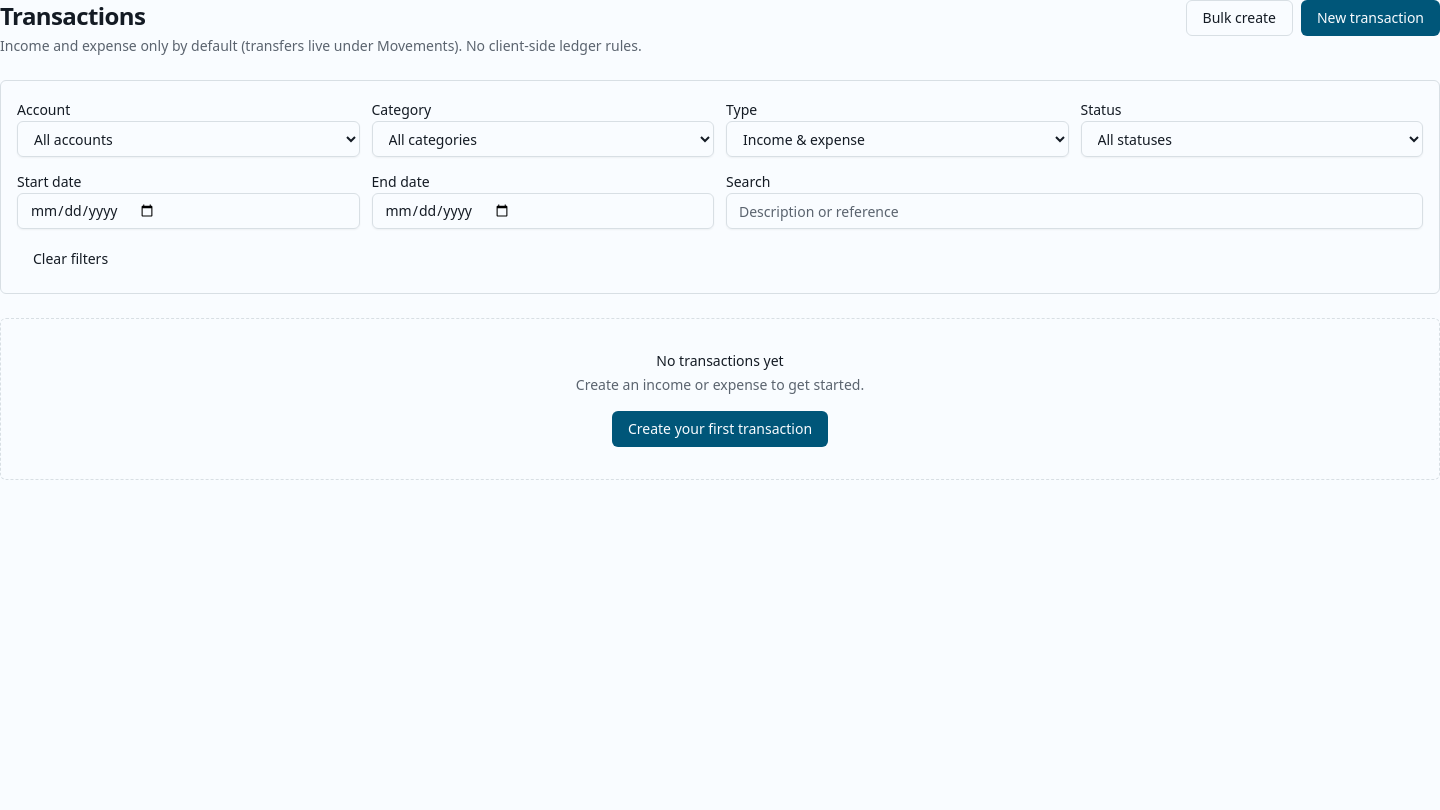
Test: TransactionsPage › creates a transaction through the dialog
The width and height of the screenshot is (1440, 810).
Check: the text "No transactions yet" is shown, box [656,351,784,370]
Click the button "New transaction": (1370, 18) [1301,0,1439,36]
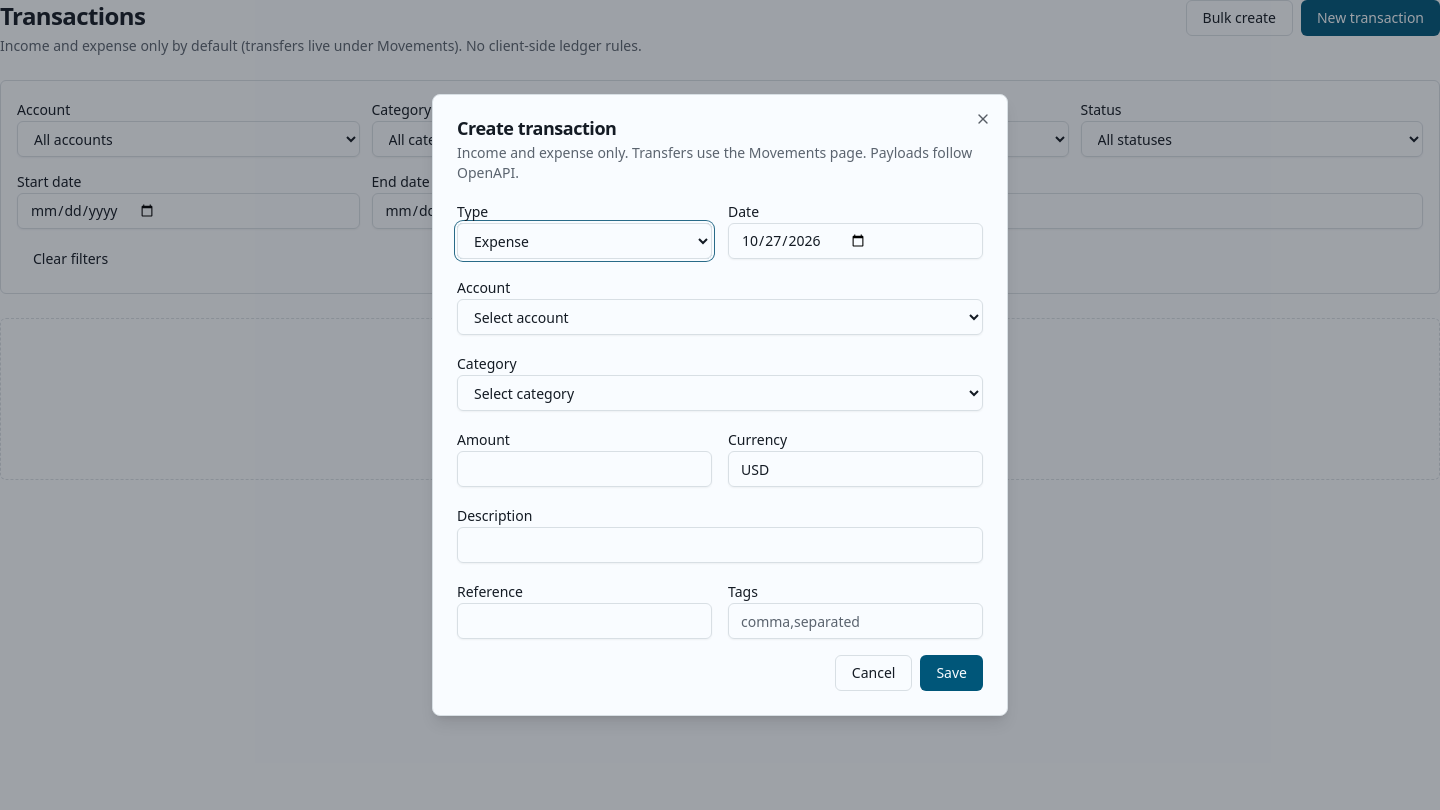
Select "Checking" in the dropdown labelled "Account": (720, 317) [457,299,983,335]
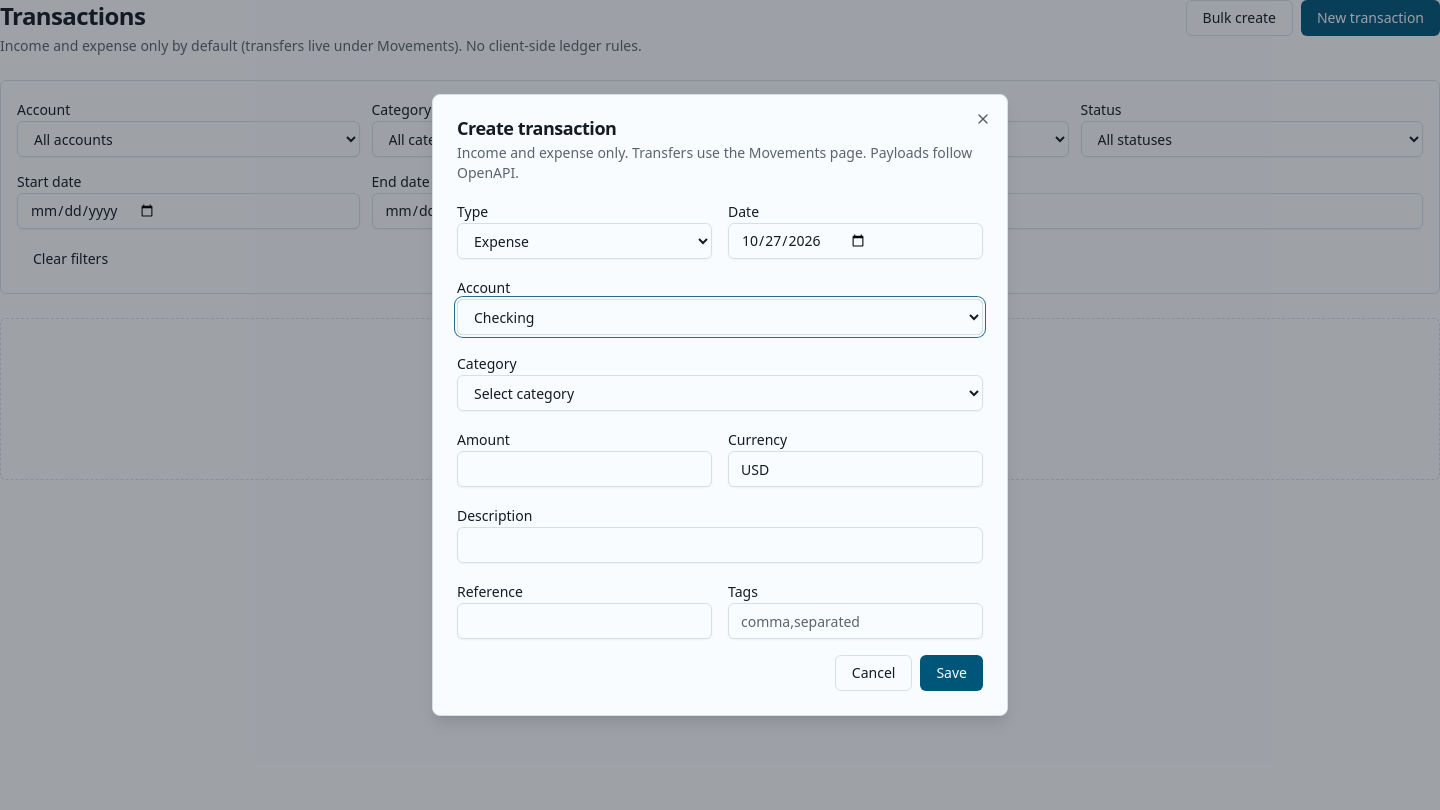
Select "Food" in the dropdown labelled "Category": (720, 393) [457,375,983,411]
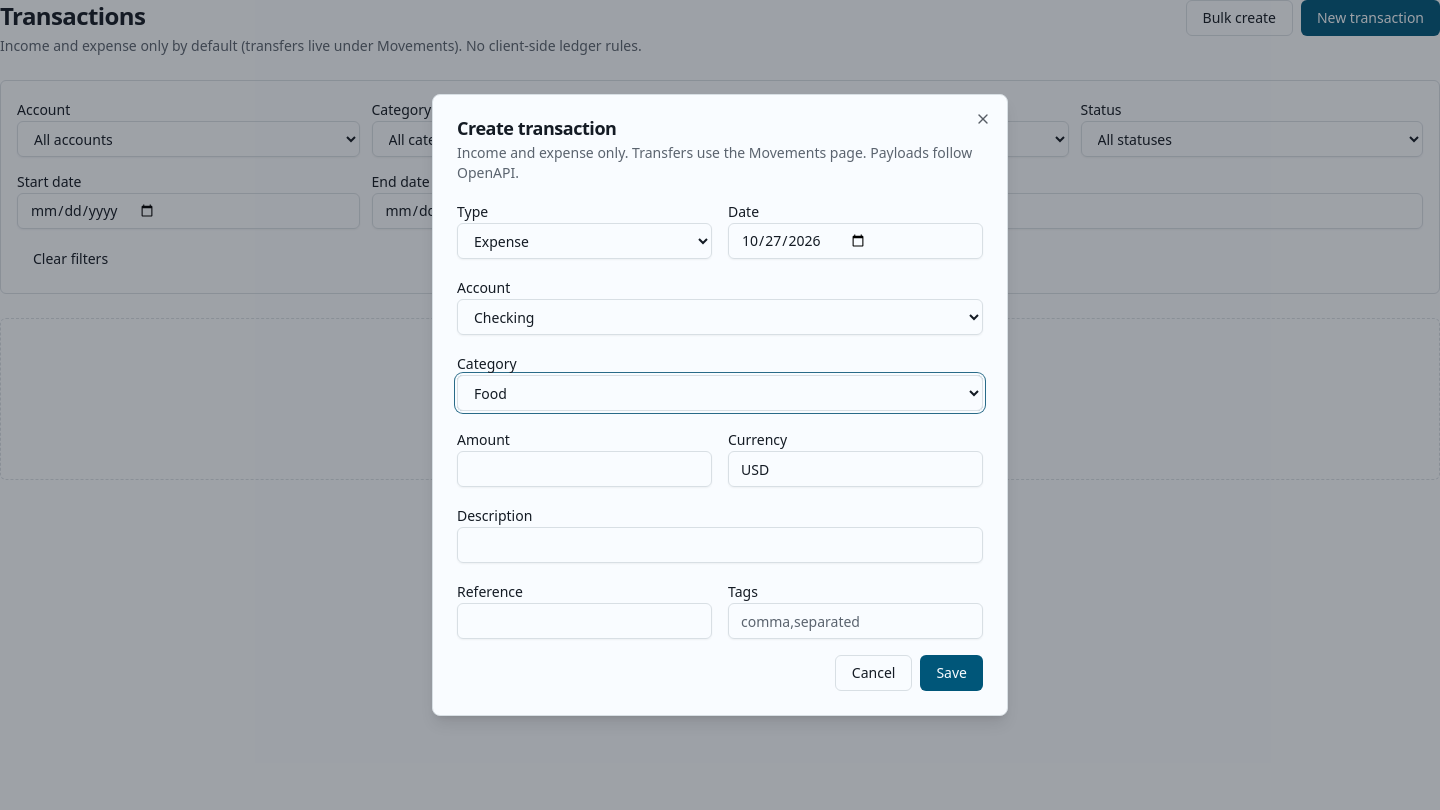
In the field labelled "Amount": (584, 469) [457,451,712,487], type "9"
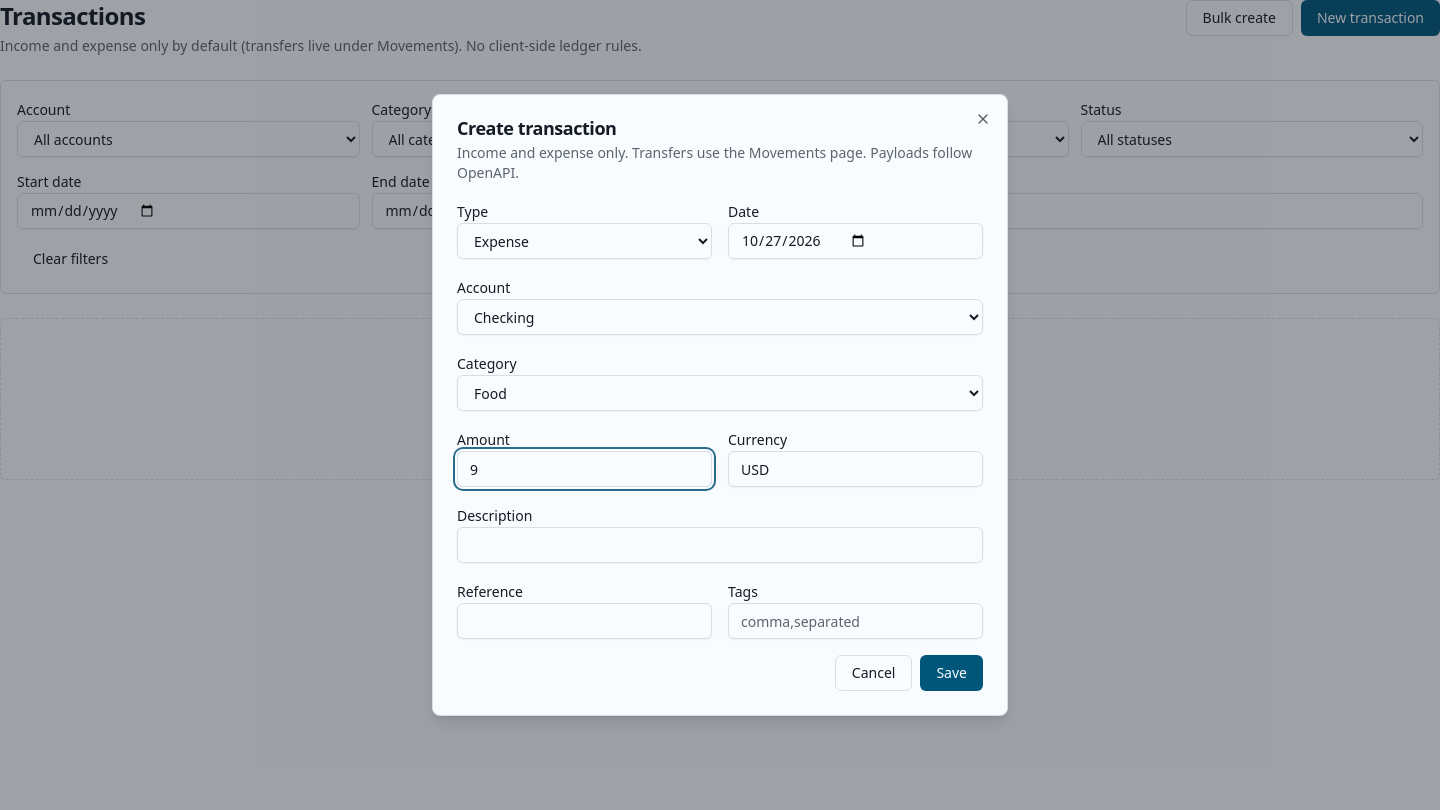
In the field labelled "Description": (720, 545) [457,527,983,563], type "Coffee"
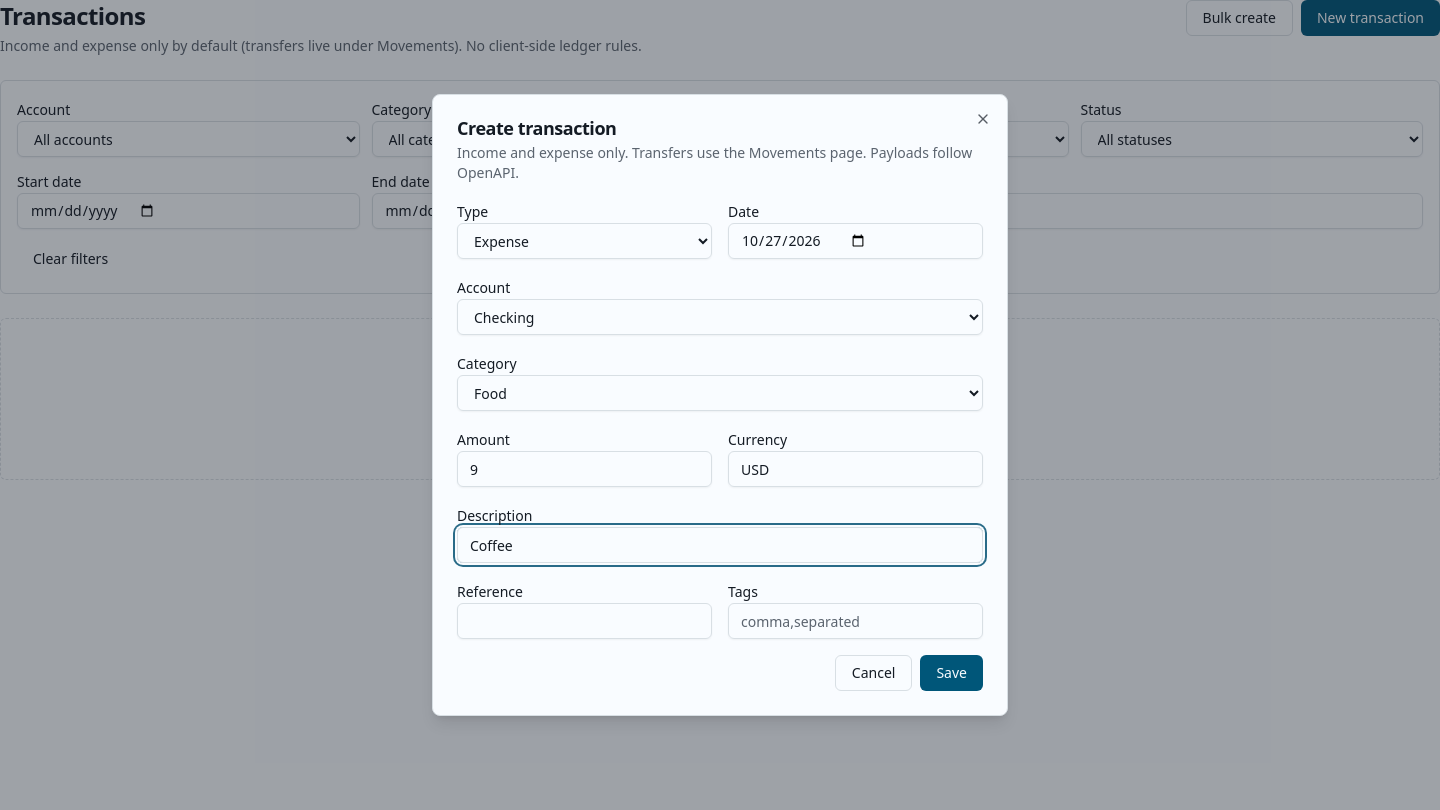
Click the button "Save": (952, 673) [920,655,983,691]
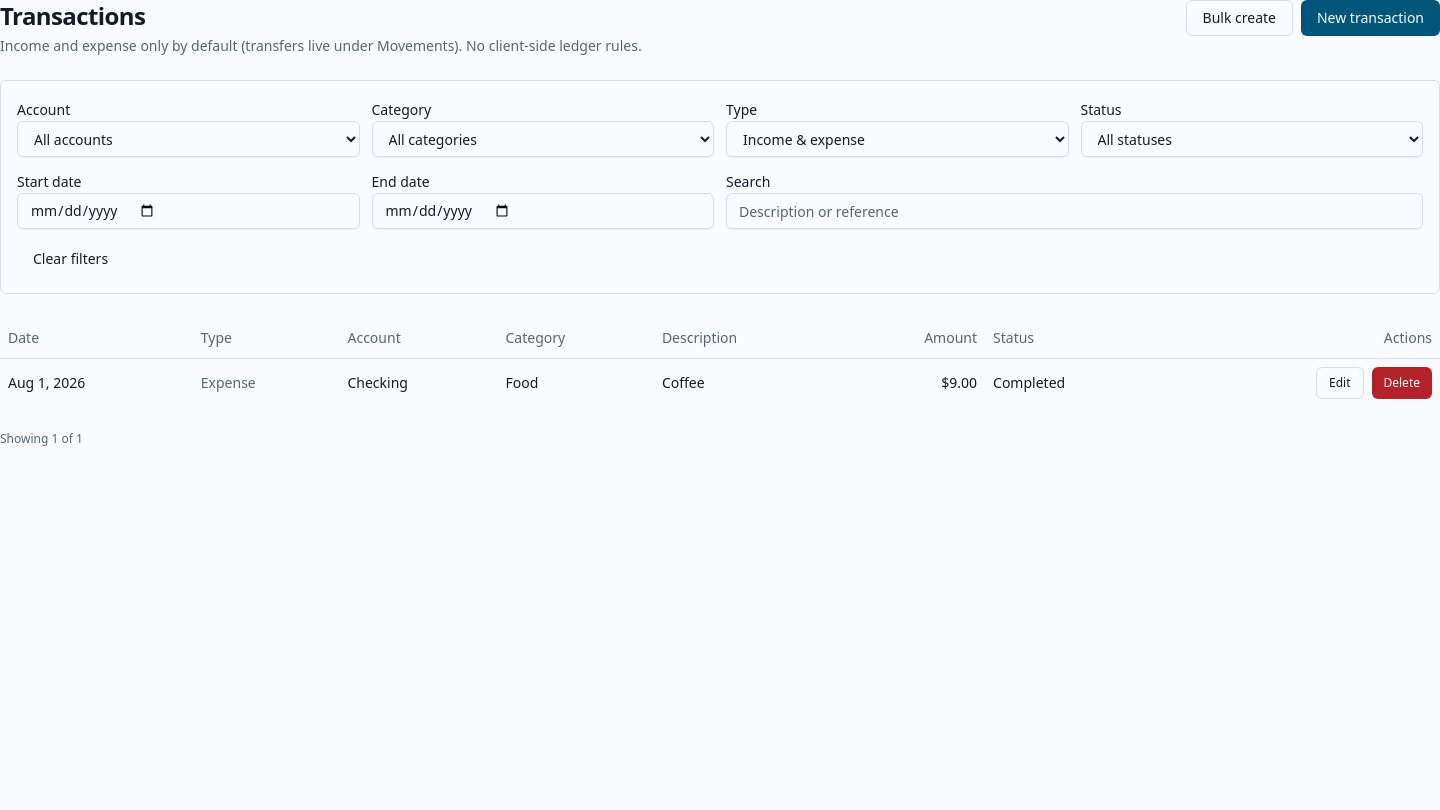
Check: the text "Coffee" is shown, box [654,358,843,406]
